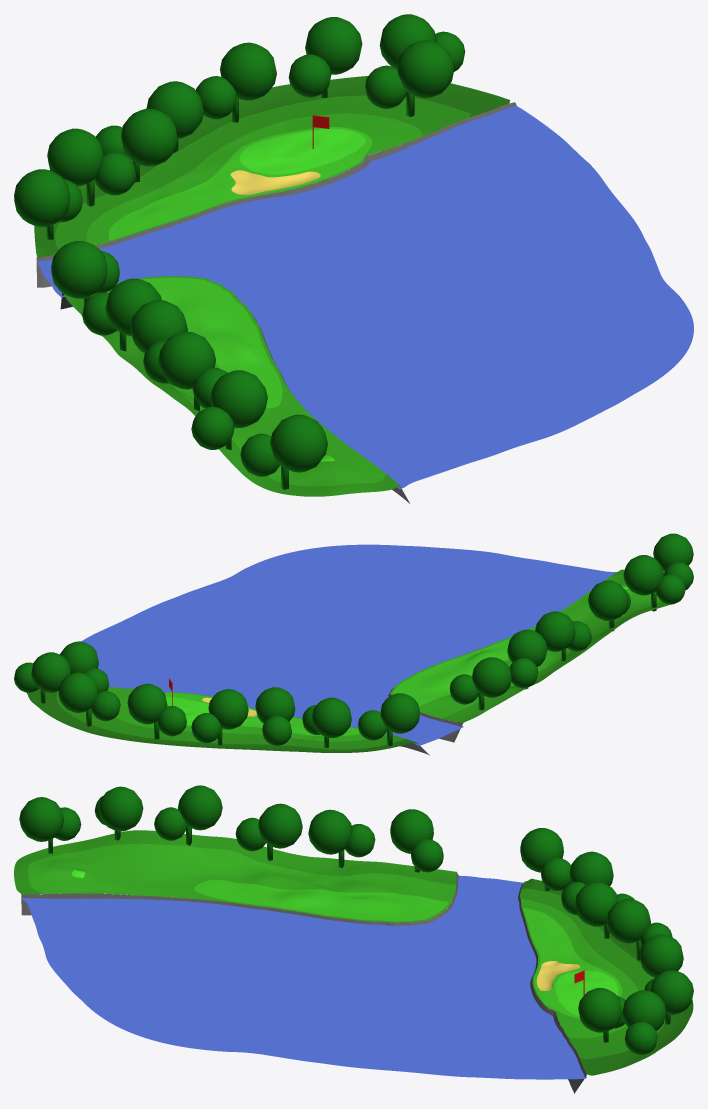
File: inconvenient.glb
3 views of the same model, one above another, from view 1: azimuth 30°, elevation 25°; view 2: azimuth 150°, elevation 25°; view 3: azimuth 270°, elevation 25° (orthographic). The views are drawn at different scales.
Visible parts, largest first — view 1: water, heavy-rough2, fairway, rough2, fairway2, OB2, Sphere.014, Sphere.007, Sphere.005, Sphere.011, Sphere.004, Sphere.012 (+15 smaller); view 2: water, OB2, heavy-rough2, fairway, Sphere.008, Sphere.004, Sphere.012, Sphere.006, Sphere.011, Sphere.010, Sphere.009, Sphere.013 (+12 smaller); view 3: water, rough, heavy-rough, OB, fairway, heavy-rough2, fairway2, Sphere.003, Sphere.001, Sphere.002, rough2, OB2 (+17 smaller).
Boxes of the visible parts, box(x1,y1,x2,y2) form: water: box(37, 106, 693, 489); heavy-rough2: box(55, 95, 470, 249); fairway: box(142, 277, 282, 408); rough2: box(86, 113, 422, 245); fairway2: box(108, 127, 372, 240); OB2: box(34, 76, 510, 256); Sphere.014: box(365, 40, 453, 116); Sphere.007: box(47, 128, 135, 206); Sphere.005: box(240, 414, 327, 489); Sphere.011: box(196, 42, 276, 122); Sphere.004: box(191, 370, 267, 449); Sphere.012: box(288, 17, 362, 97); water: box(59, 544, 616, 745); OB2: box(27, 689, 417, 752); heavy-rough2: box(56, 687, 405, 749); fairway: box(393, 638, 510, 706); Sphere.008: box(449, 657, 511, 710); Sphere.004: box(623, 555, 685, 611); Sphere.012: box(58, 672, 120, 726); Sphere.006: box(358, 693, 419, 745); Sphere.011: box(127, 683, 186, 739); Sphere.010: box(191, 689, 248, 745); Sphere.009: box(255, 687, 295, 745); Sphere.013: box(14, 652, 70, 703); water: box(22, 875, 586, 1079); rough: box(48, 860, 453, 901); heavy-rough: box(28, 843, 456, 894); OB: box(14, 830, 456, 894); fairway: box(194, 879, 448, 921); heavy-rough2: box(520, 888, 664, 1059); fairway2: box(523, 908, 622, 1018); Sphere.003: box(154, 785, 222, 845); Sphere.001: box(308, 809, 375, 867); Sphere.002: box(235, 803, 302, 860); rough2: box(520, 899, 638, 1038); OB2: box(521, 878, 693, 1075).
Size of the model in its own units: 1.5 by 0.2582 by 1.81.
